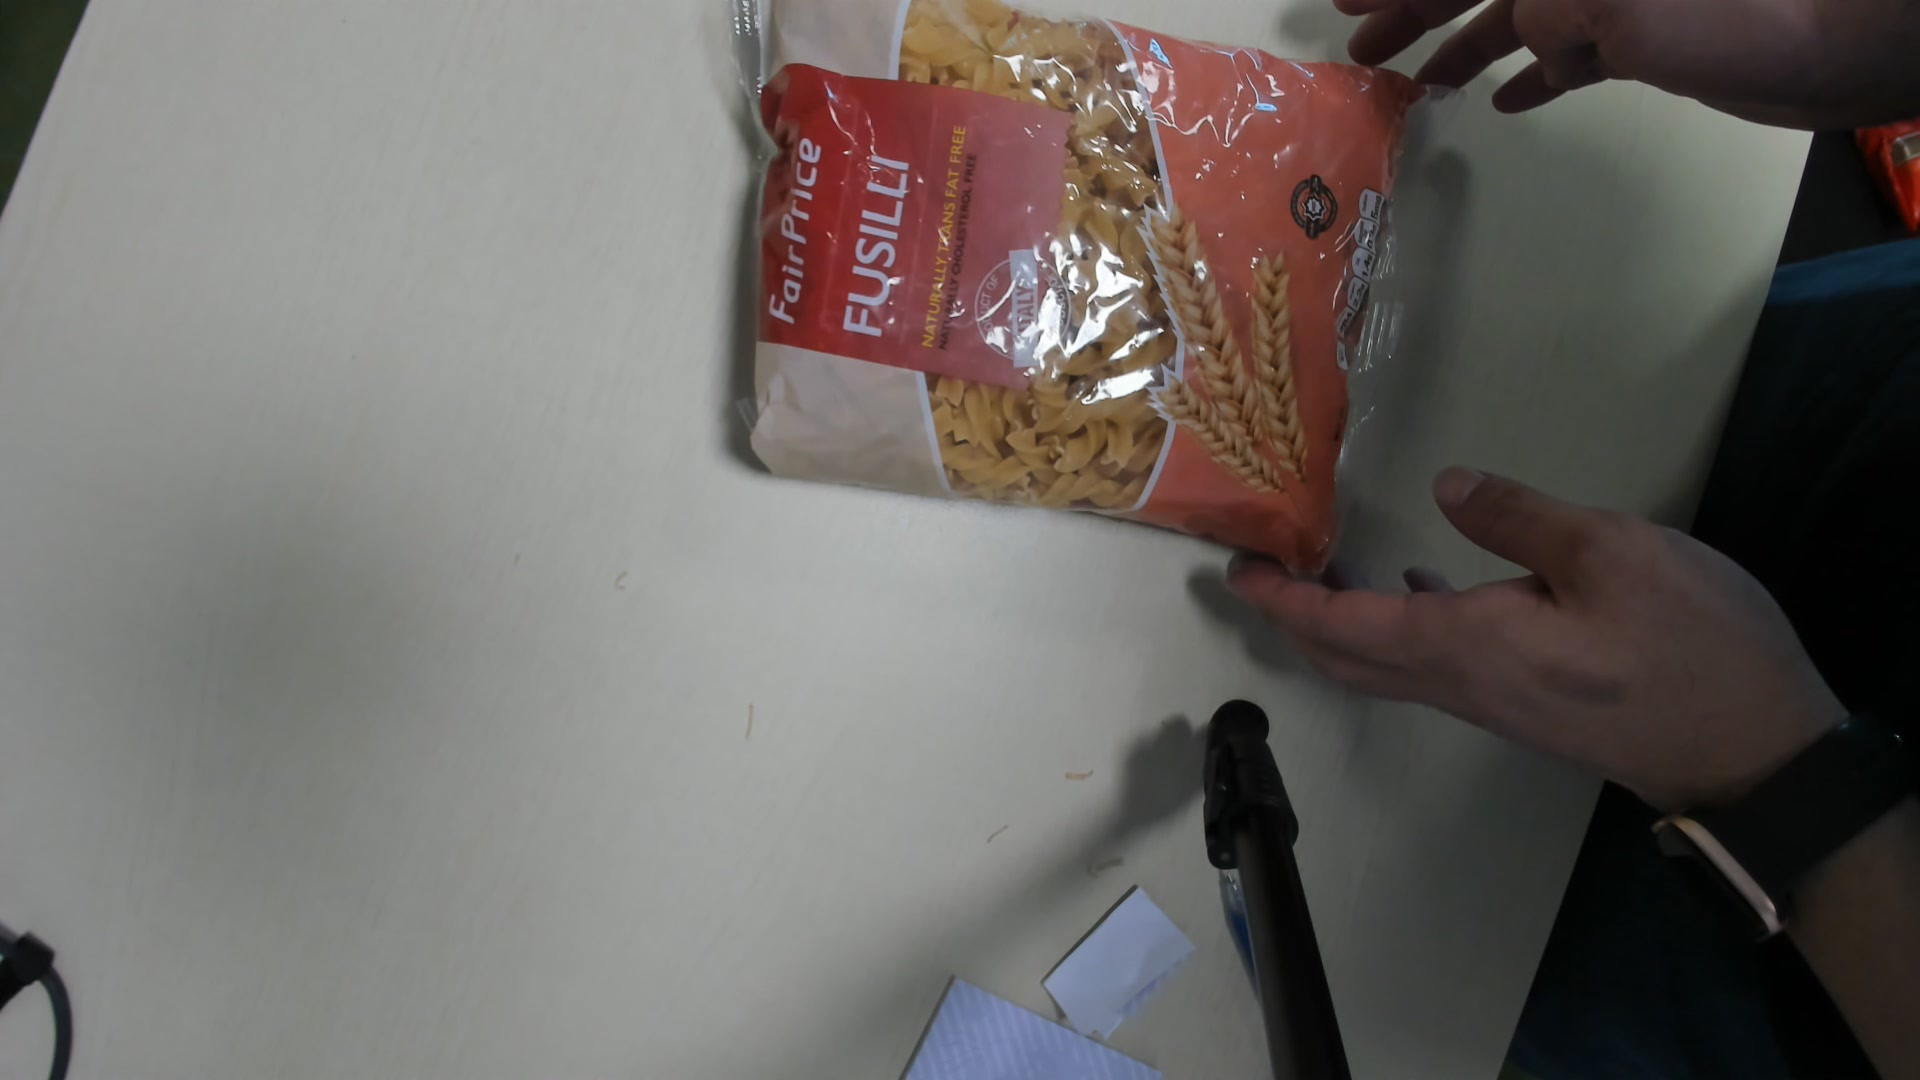Pasta_500-599g_Halal_NonHealthy: (727, 3, 1422, 575)
